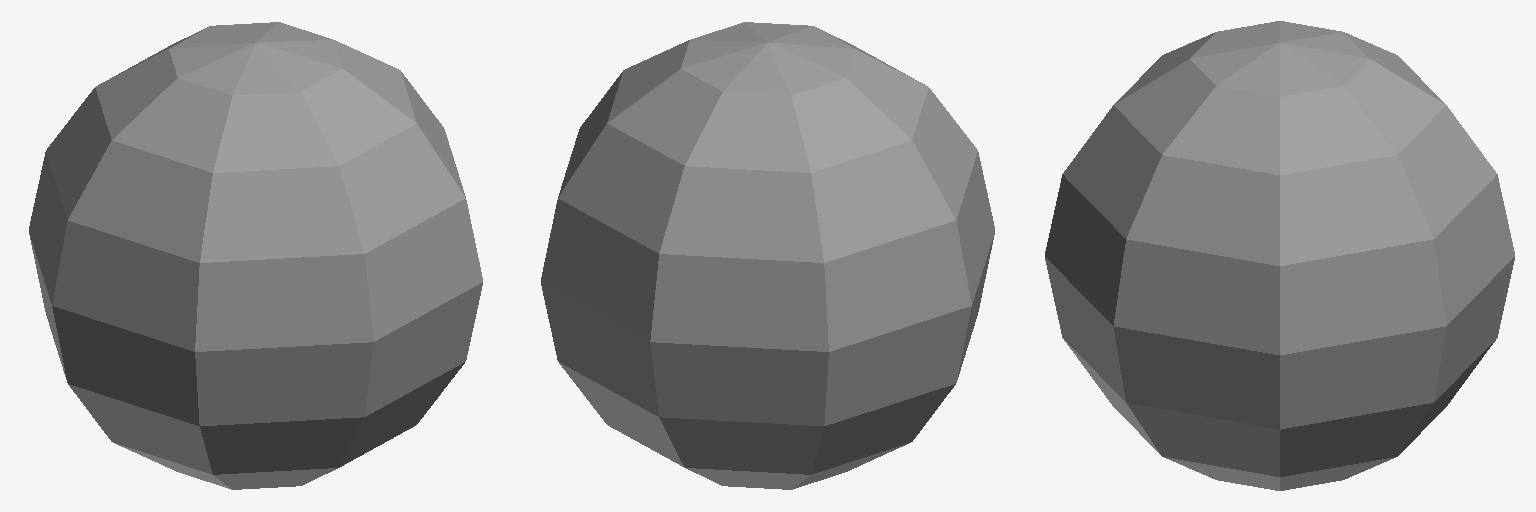
Rendered from sombra_ultimate_dome.obj.
3 renders of one model, left to right at view 1: azimuth 30°, elevation 25°; view 2: azimuth 150°, elevation 25°; view 3: azimuth 270°, elevation 25°, orthographic.
Parts seen in each view (by area): view 1: Plane; view 2: Plane; view 3: Plane.
Boxes of the visible parts, x1=… form: Plane: x1=29, y1=22, x2=482, y2=489; Plane: x1=541, y1=22, x2=994, y2=489; Plane: x1=1045, y1=21, x2=1514, y2=490.
Size of the model in its own units: 2.05 by 2.05 by 2.05.